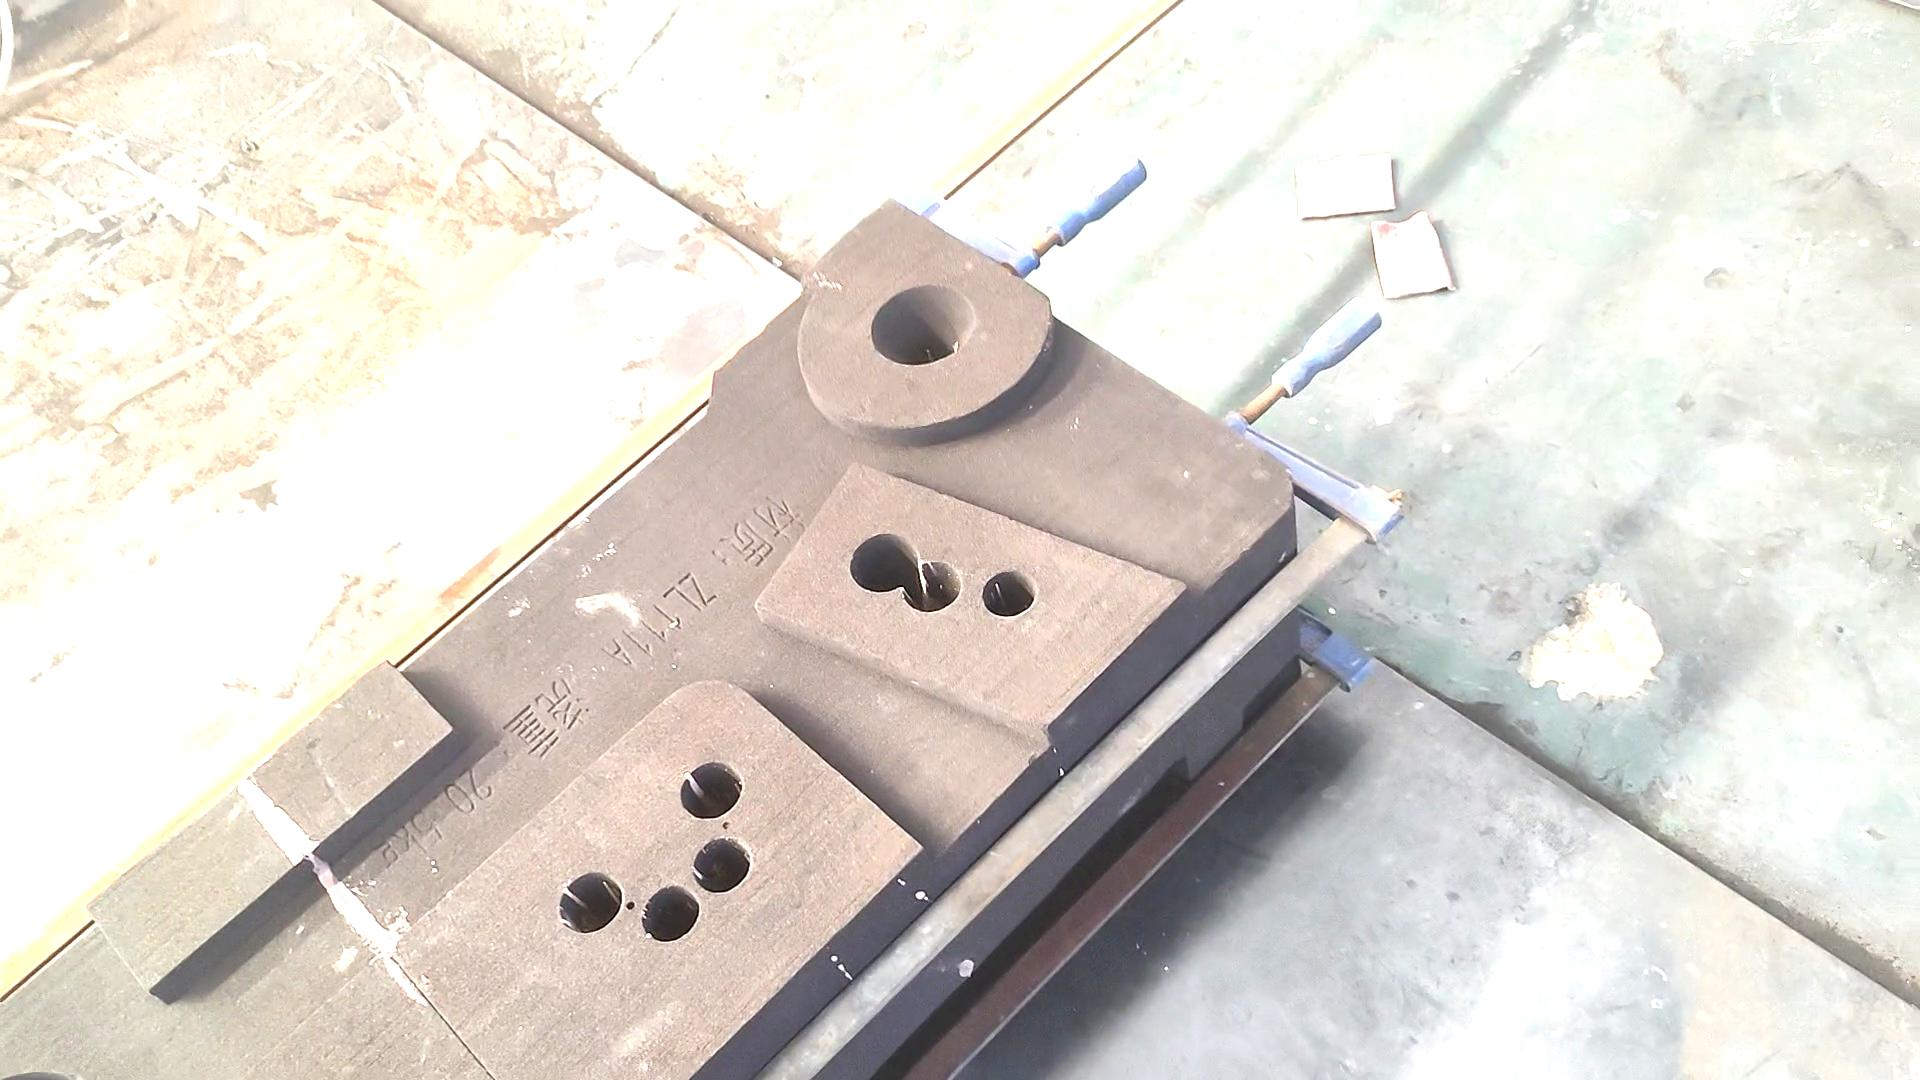pouring hole: (872, 284, 976, 367)
